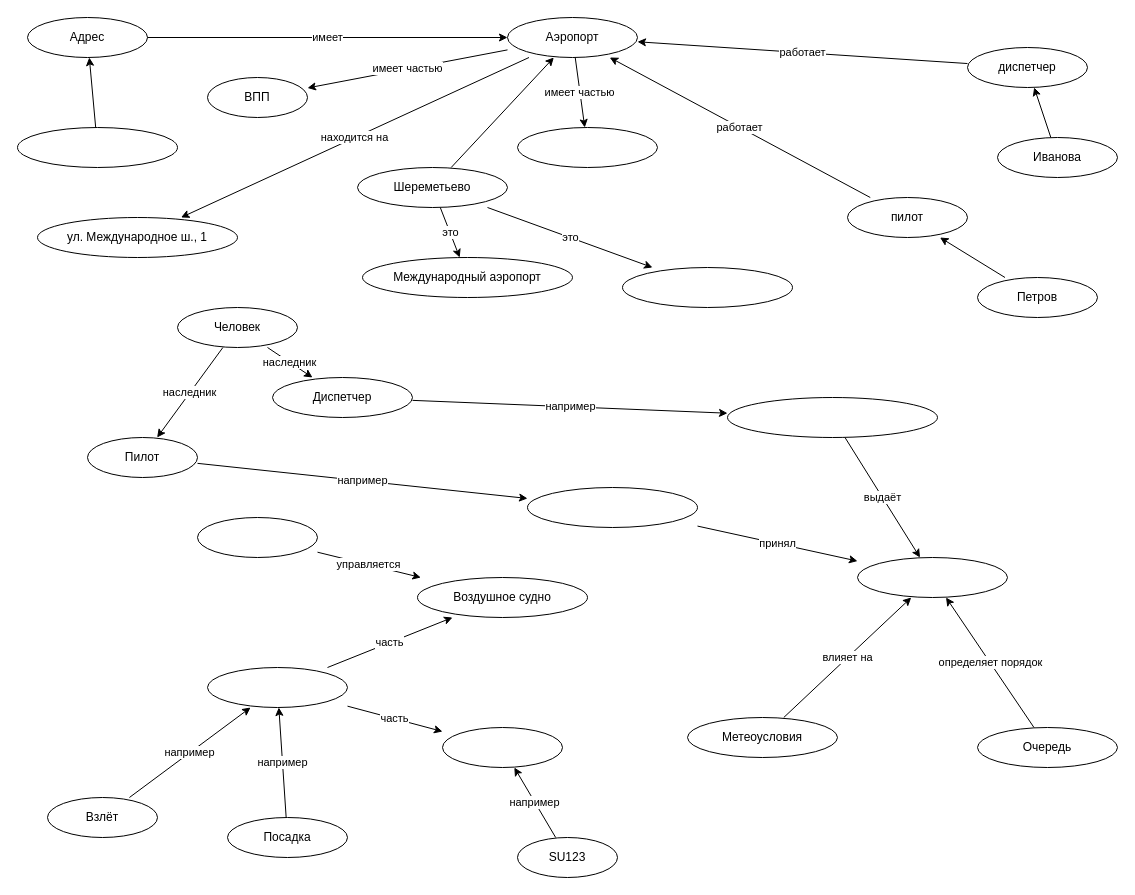
Some shapes in this 1135 by 895 pixel diagram are drawn without their labels. Each missing label, with the box of its shape:
Аэроузел (хаб): (622, 266, 792, 308)
г. Москва, Химки: (16, 126, 178, 168)
Диспетчерская: (516, 126, 658, 168)
Оперативный диспетчер: (726, 396, 938, 438)
Процесс: (206, 666, 348, 708)
Разрешение: (856, 556, 1008, 598)
Рейс: (442, 726, 562, 768)
Экипаж: (196, 516, 318, 558)
Экипаж рейса: (526, 486, 698, 528)
